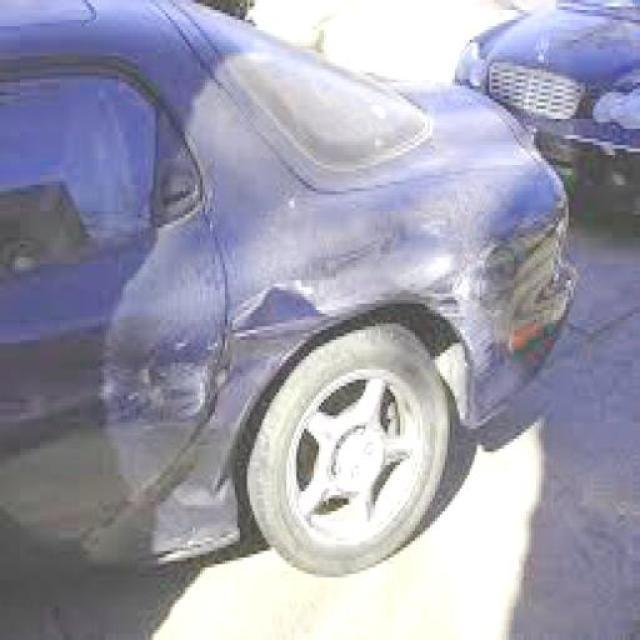Car-Damage: (229, 175, 504, 375), (92, 348, 285, 556), (140, 358, 221, 425)
